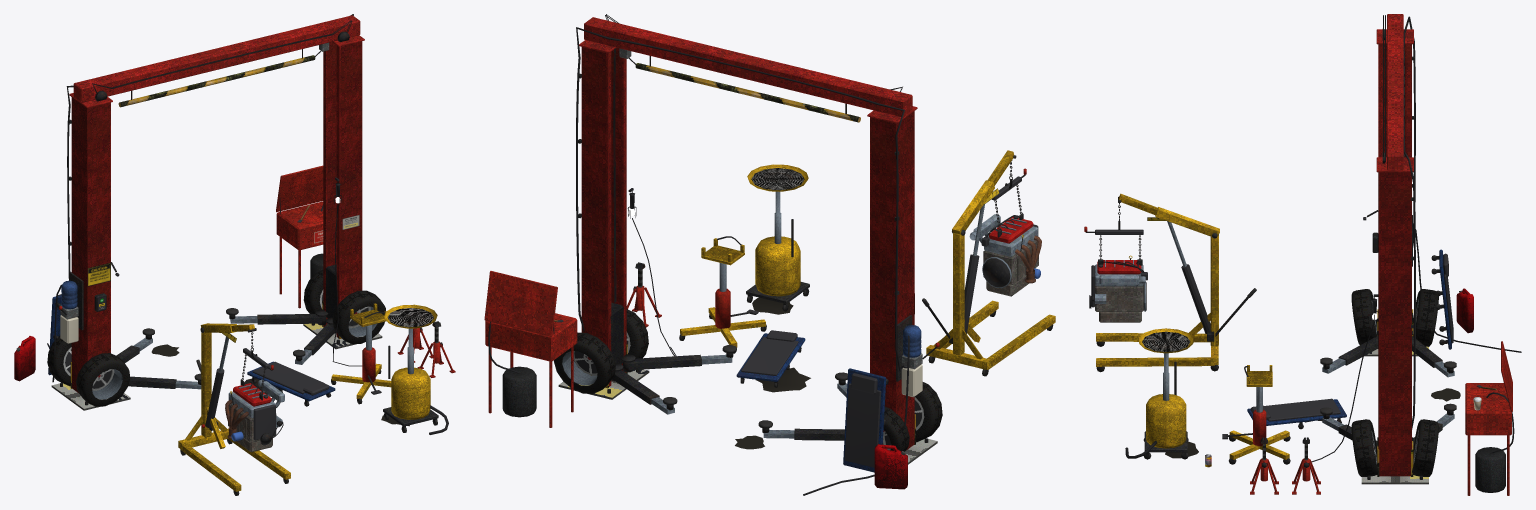
File: station_tools2.glb
3 views of the same model, side by side, from view 1: azimuth 30°, elevation 25°; view 2: azimuth 150°, elevation 25°; view 3: azimuth 270°, elevation 25° (orthographic). The views are drawn at different scales.
Visible parts, largest first — view 1: Lift_ColSide_+1_-1, Lift_TopBeam, Lift_ColSide_-1_-1, Lift_ColBack_-1, Lift_ColSide_+1_+1, Drain_Tank, Washer_Tank, Washer_Lid, BUSY_tools2_Wheel_-1-1_Tyre, BUSY_tools2_Wheel_+1-1_Tyre, Lift_ColLip_+1_+1, Lift_ShutoffBar (+14 smaller); view 2: Lift_ColSide_+1_+1, Lift_TopBeam, Lift_ColSide_-1_+1, Lift_ColBack_-1, Washer_Lid, Lift_ColSide_+1_-1, Washer_Tank, Drain_Tank, IDLE_tools2_Creeper_Pad, Lift_Hydraulic, BUSY_tools2_Wheel_+1+1_Tyre, Lift_ColLip_+1_+1 (+22 smaller); view 3: Lift_ColBack_+1, Lift_TopBeam, Washer_Tank, Drain_Tank, Lift_Hydraulic, Washer_Drum, BUSY_tools2_Wheel_+1-1_Tyre, BUSY_tools2_Wheel_+1+1_Tyre, BUSY_tools2_Wheel_-1+1_Tyre, BUSY_tools2_Eng_Block, BUSY_tools2_Creeper_Pad, BUSY_tools2_Wheel_-1-1_Tyre (+12 smaller).
Part boxes in pixels (x1,y1,x2,y2): Lift_ColSide_+1_-1: (338,41,362,303); Lift_TopBeam: (73,15,360,102); Lift_ColSide_-1_-1: (87,103,110,361); Lift_ColBack_-1: (71,97,88,393); Lift_ColSide_+1_+1: (323,42,336,318); Drain_Tank: (391,367,430,419); Washer_Tank: (276,201,323,250); Washer_Lid: (276,165,323,212); BUSY_tools2_Wheel_-1-1_Tyre: (76,353,130,406); BUSY_tools2_Wheel_+1-1_Tyre: (332,290,385,344); Lift_ColLip_+1_+1: (323,51,327,326); Lift_ShutoffBar: (118,55,315,107); Lift_ColSide_+1_+1: (581,47,608,348); Lift_TopBeam: (584,17,912,117); Lift_ColSide_-1_+1: (870,117,896,413); Lift_ColBack_-1: (896,111,914,450); Washer_Lid: (484,271,557,336); Lift_ColSide_+1_-1: (611,47,626,344); Washer_Tank: (485,313,577,361); Drain_Tank: (755,236,800,296); IDLE_tools2_Creeper_Pad: (844,383,881,467); Lift_Hydraulic: (576,27,904,370); BUSY_tools2_Wheel_+1+1_Tyre: (554,332,615,393); Lift_ColLip_+1_+1: (606,52,611,386); Lift_ColBack_+1: (1378,172,1411,476); Lift_TopBeam: (1387,14,1403,170); Washer_Tank: (1465,383,1511,435); Drain_Tank: (1146,394,1186,448); Lift_Hydraulic: (1403,16,1415,429); Washer_Drum: (1475,447,1505,492); BUSY_tools2_Wheel_+1-1_Tyre: (1351,419,1378,476); BUSY_tools2_Wheel_+1+1_Tyre: (1412,419,1438,476); BUSY_tools2_Wheel_-1+1_Tyre: (1413,289,1438,346); BUSY_tools2_Eng_Block: (1095,285,1143,311); BUSY_tools2_Creeper_Pad: (1264,398,1340,421); BUSY_tools2_Wheel_-1-1_Tyre: (1351,289,1377,344).
Size of the model in its own units: 4.44 by 3.88 by 4.68.
35 materials, 29 textured.
